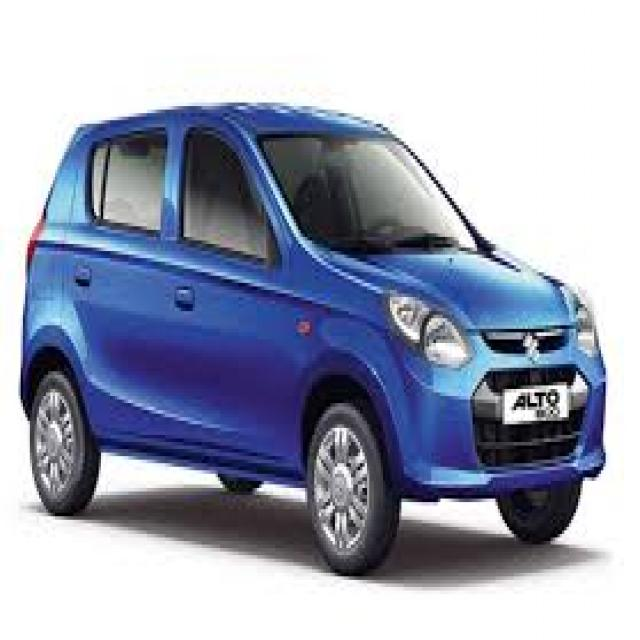Car: (22, 92, 611, 571)
